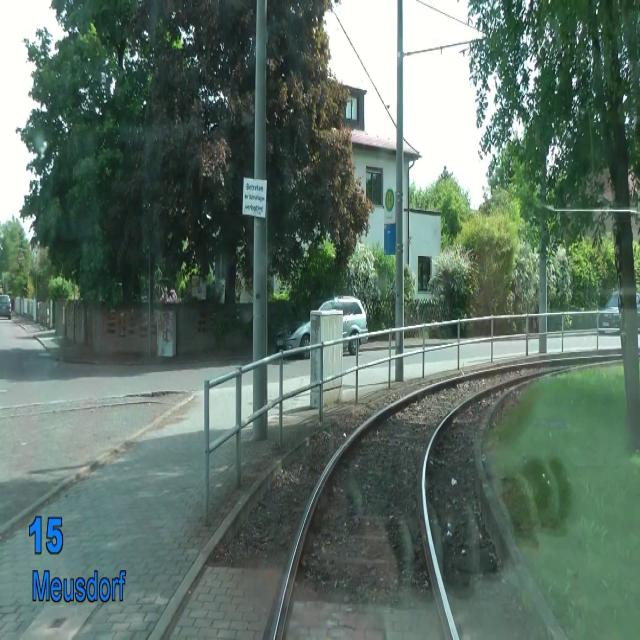rail-track: (273, 364, 559, 639)
